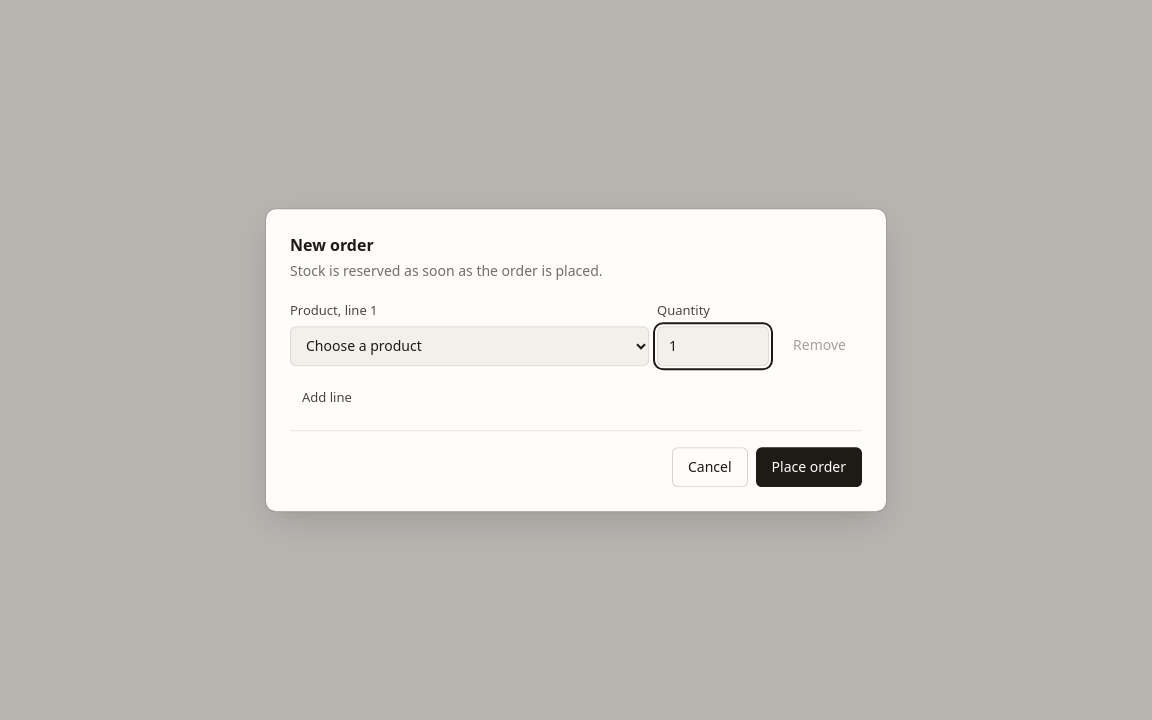
placing an order › a network error is shown, and pressing again places the order
Later steps or results of the test are not shown.
Select "BOLT-1 · Bolt (5 available)" in the dropdown labelled "Product, line 1" at (470, 346), box [290,326,649,366]
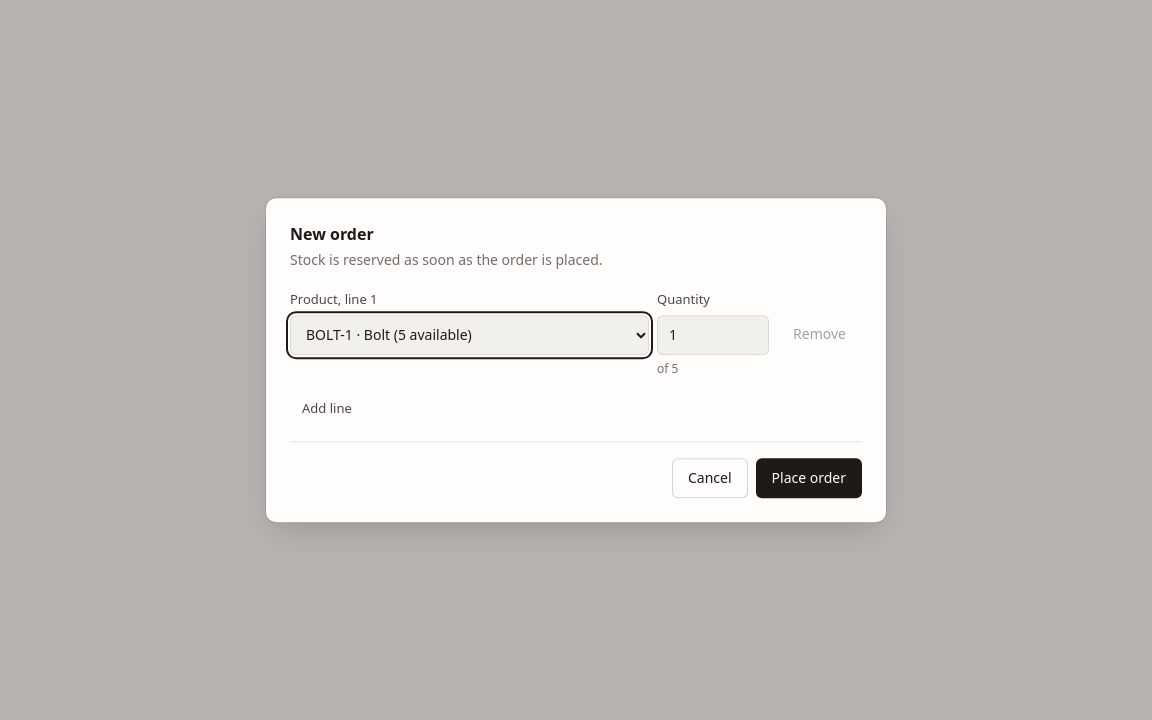
Replace the text in the field labelled "Quantity" with "2" at (713, 335), box [657,315,769,355]
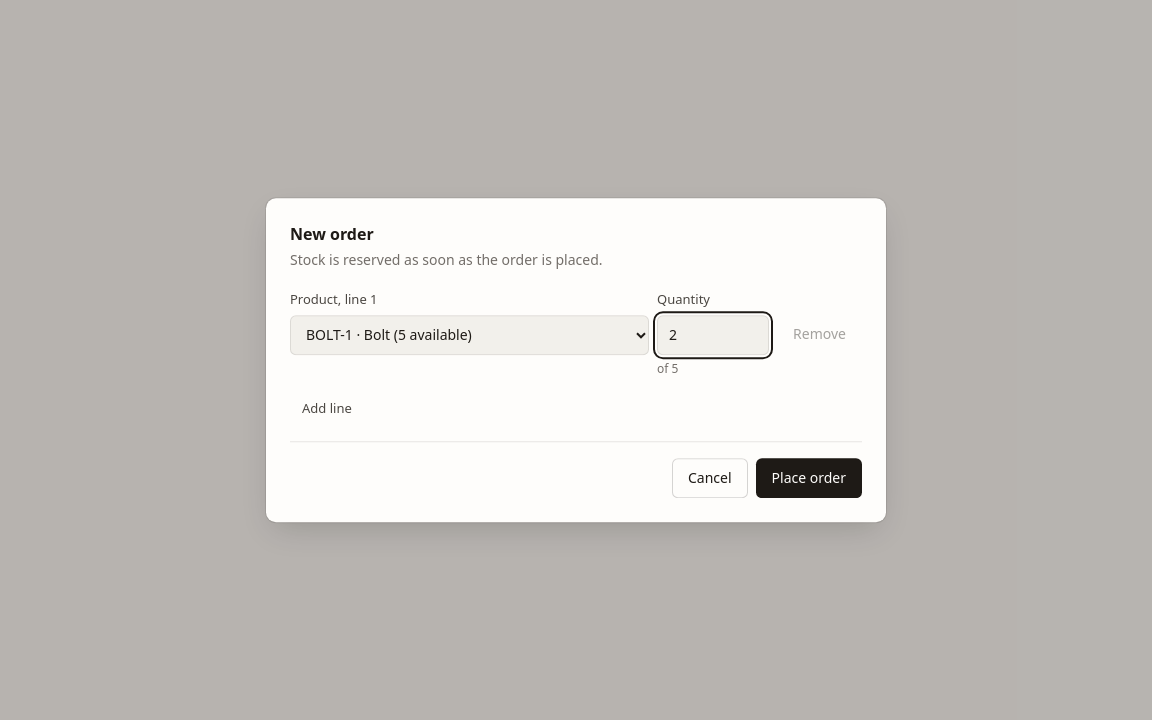
Click the button "Place order" at (809, 478), box [756,458,862,498]
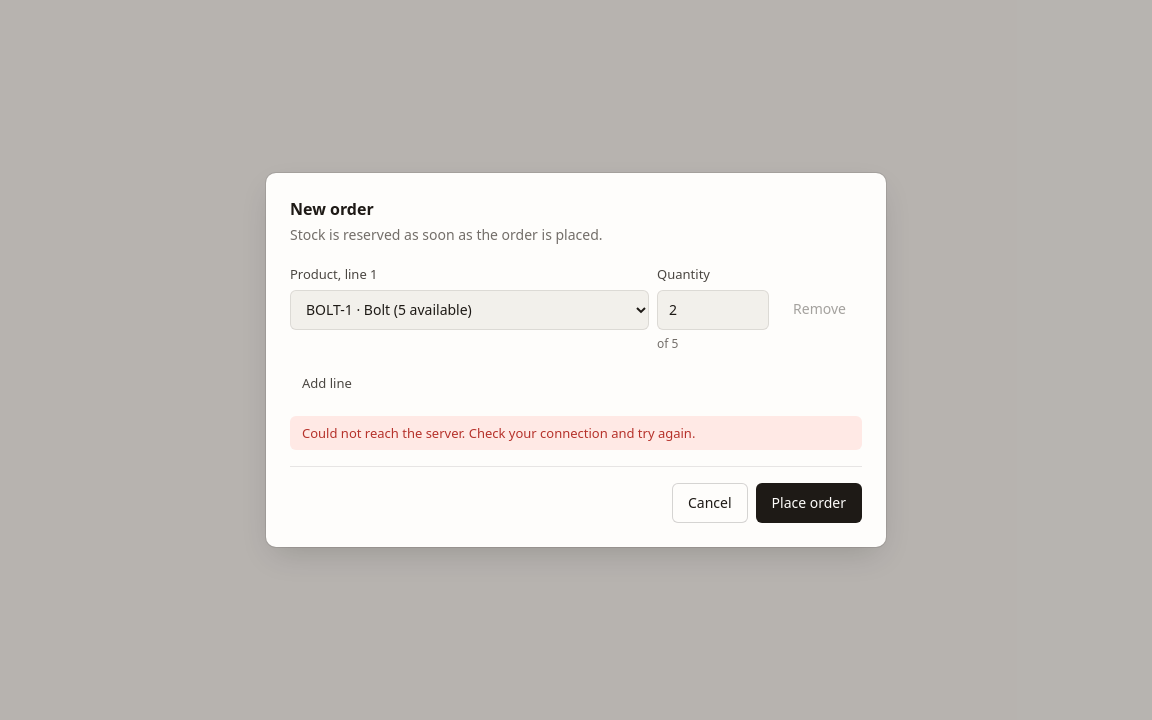
Now the message shows "Could not reach the server", box [302,424,695,442]
